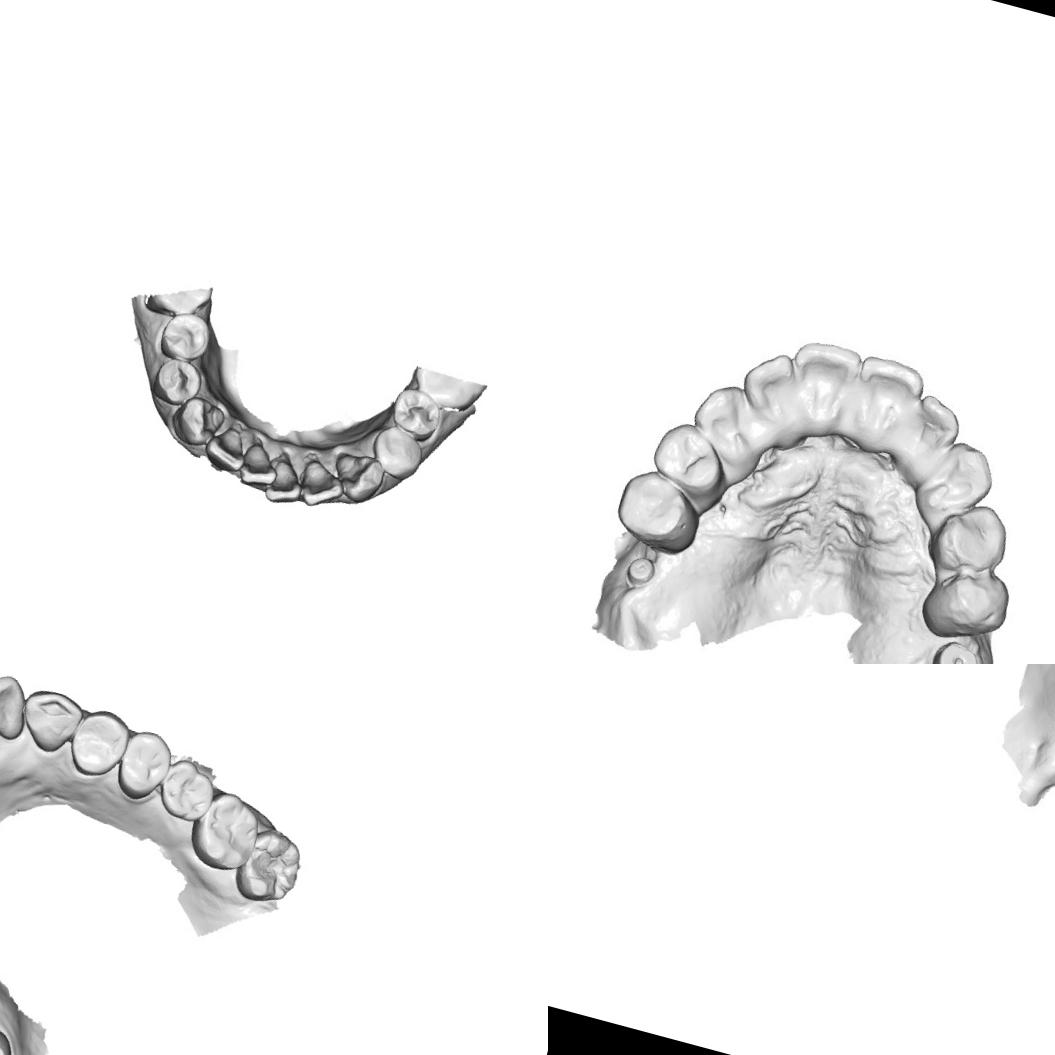canine: (911, 432, 1001, 539), (688, 377, 773, 472), (12, 681, 88, 760), (322, 445, 390, 512), (167, 390, 228, 453)
implant: (929, 638, 980, 664)
incisor: (841, 355, 938, 470), (784, 334, 866, 431), (898, 396, 961, 485), (739, 348, 808, 425), (291, 452, 351, 515), (197, 418, 256, 479), (260, 452, 312, 512), (232, 436, 286, 493), (0, 665, 37, 744)
molar: (184, 780, 268, 880), (228, 821, 311, 912), (150, 752, 220, 828)
premolar: (926, 561, 1019, 651), (933, 503, 1018, 586), (613, 468, 697, 548), (644, 420, 728, 499), (62, 700, 136, 784), (107, 720, 177, 807), (362, 416, 432, 486), (382, 380, 448, 446), (142, 350, 208, 412), (154, 305, 216, 368)
